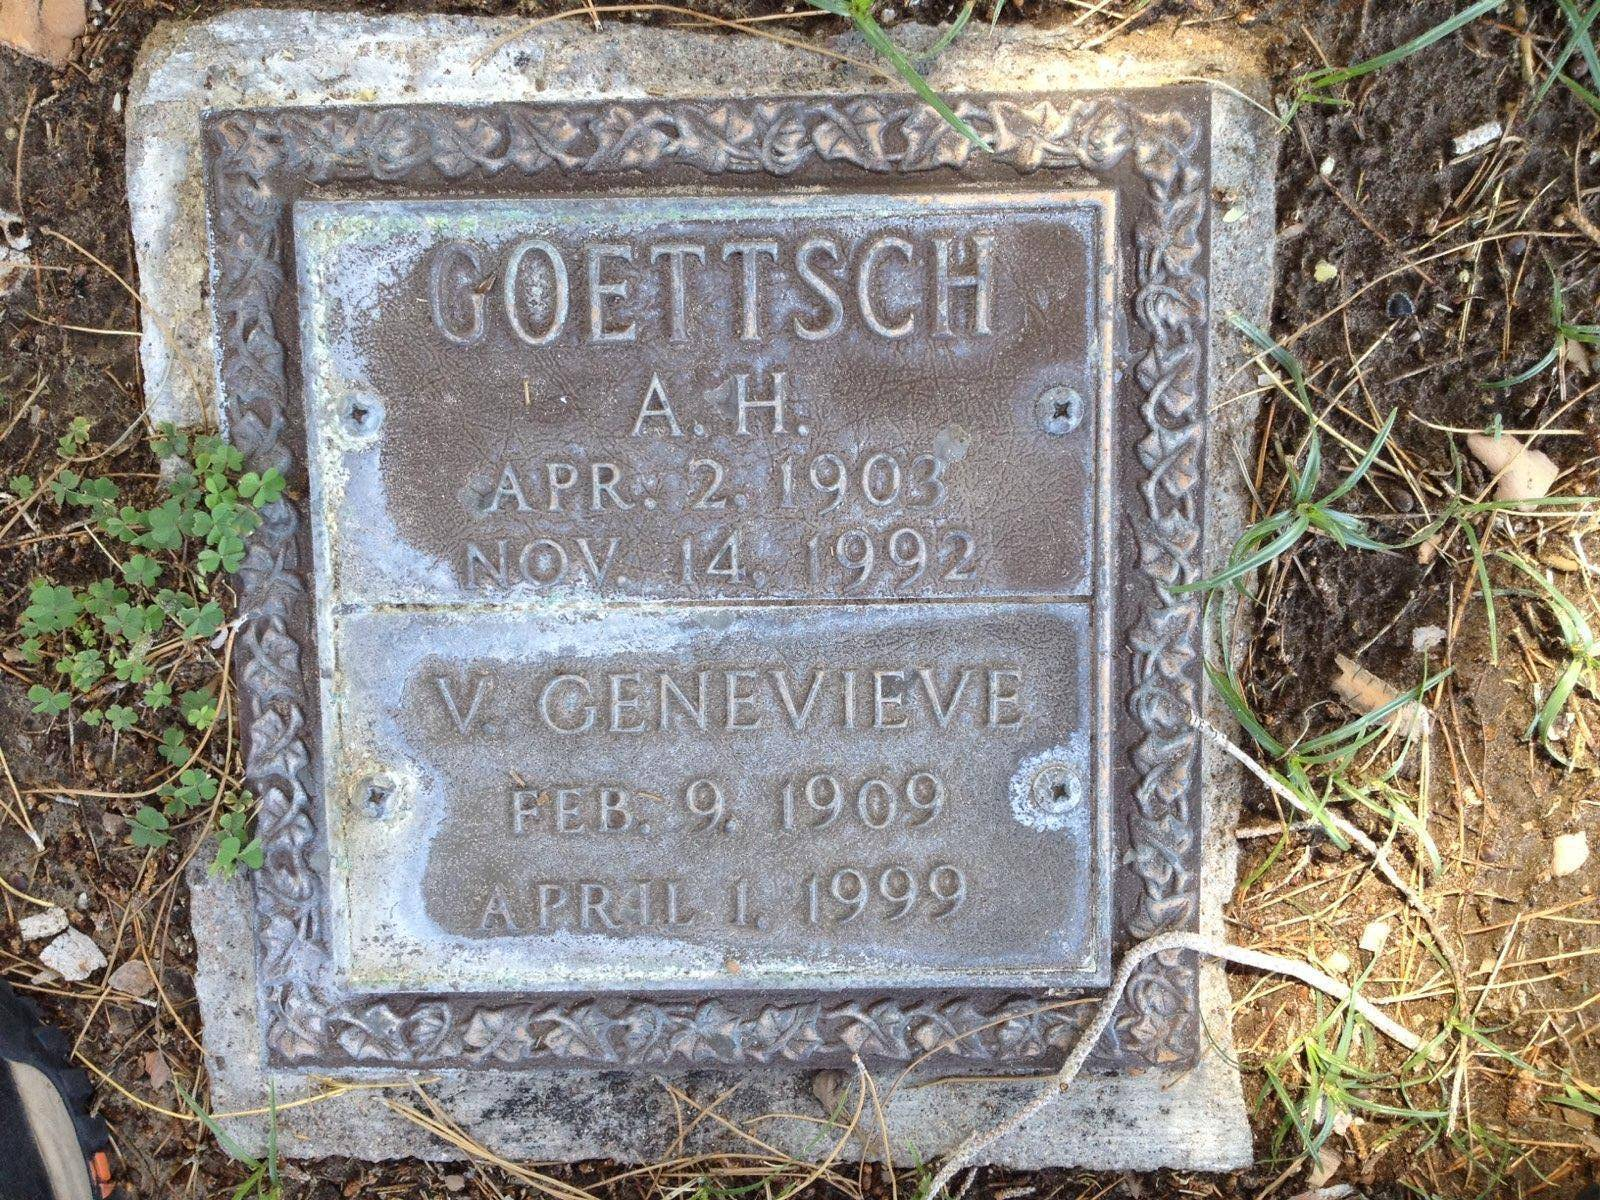flat: (118, 0, 1272, 1177)
